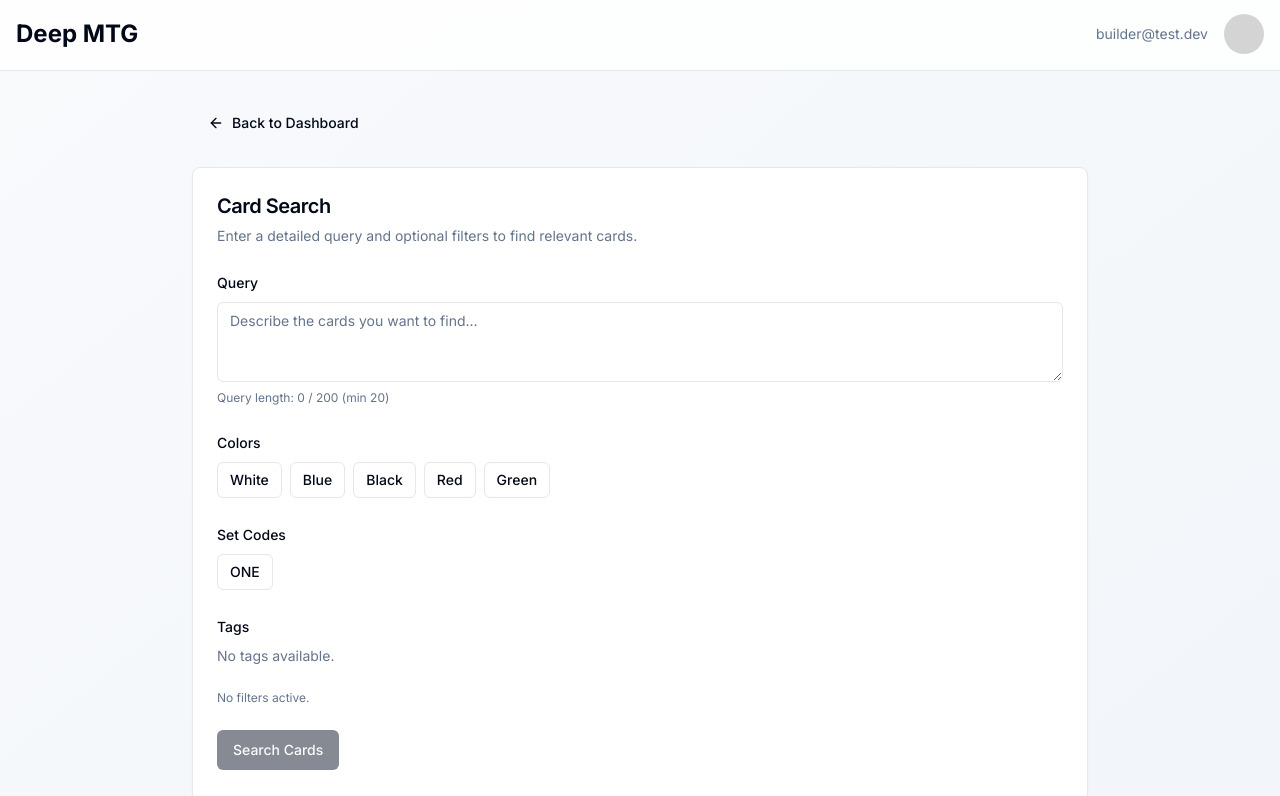
Test: CardSearchPage › renders results when card info is nested under payload alias
Type "Find cheap white spot removal for creature-heavy matchups" into the text box labelled "Query" at (640,342), box [217,302,1063,382]
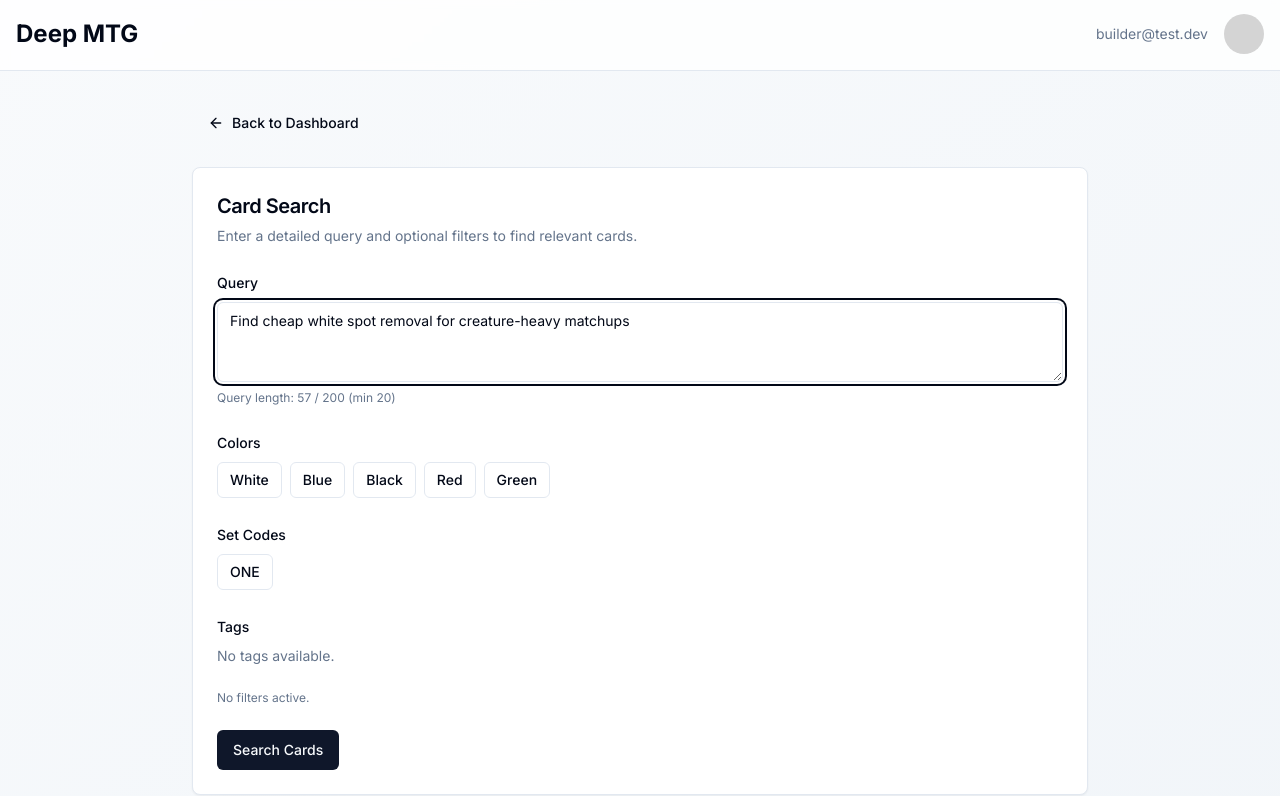
Click the button "Search Cards" at (278,750), box [217,730,339,770]
(page scrolled)
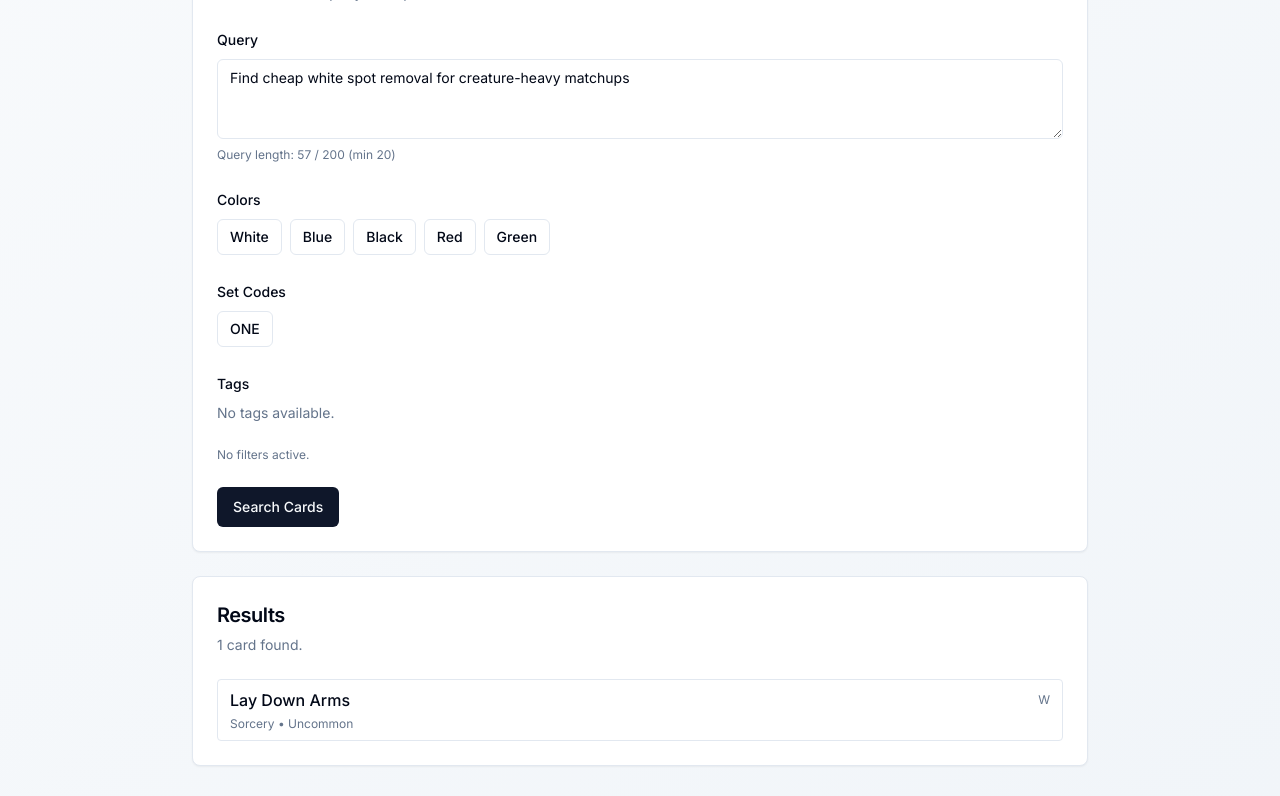
Check: the text "Lay Down Arms" is shown, box [230,688,350,712]
